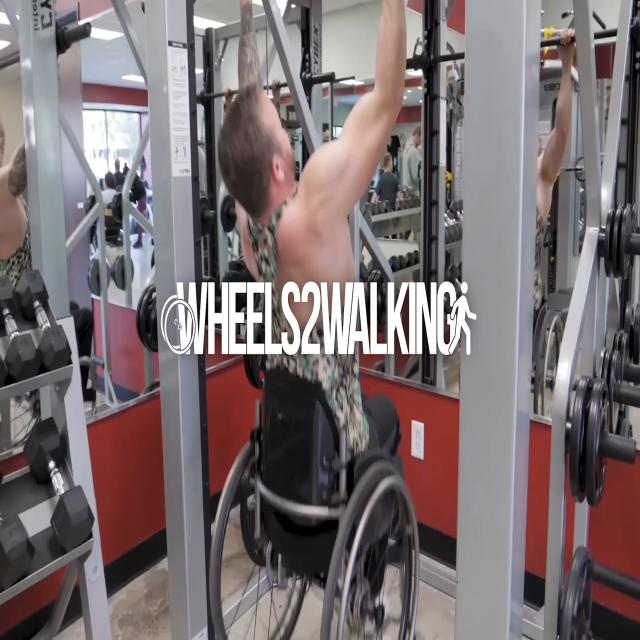wheelchairs: (208, 357, 422, 640)
